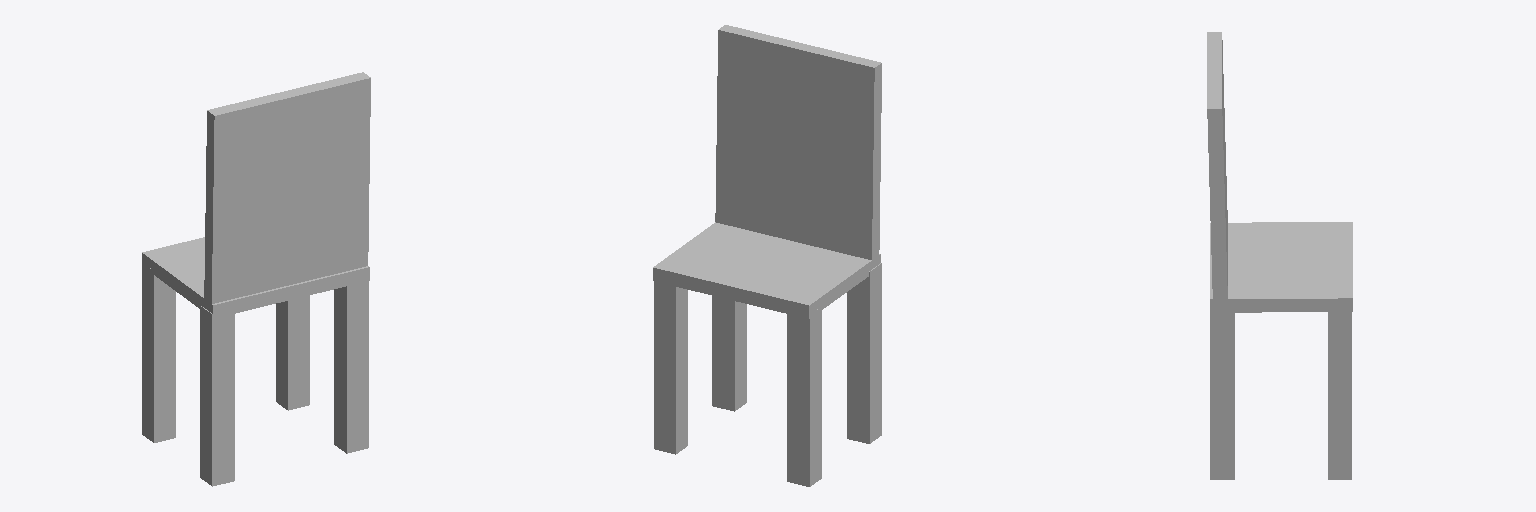
The model's file is chair1.obj.
3 renders of one model, left to right at view 1: azimuth 30°, elevation 25°; view 2: azimuth 150°, elevation 25°; view 3: azimuth 270°, elevation 25°, orthographic.
Visible parts, largest first — view 1: Cube.003_Cube.019; view 2: Cube.003_Cube.019; view 3: Cube.003_Cube.019.
Part boxes in pixels (bbox=[...]): Cube.003_Cube.019: bbox=[142, 72, 370, 486]; Cube.003_Cube.019: bbox=[653, 25, 881, 486]; Cube.003_Cube.019: bbox=[1207, 32, 1352, 479].
Bounding box in the file's own units: 0.5964 × 1.35 × 0.4778.